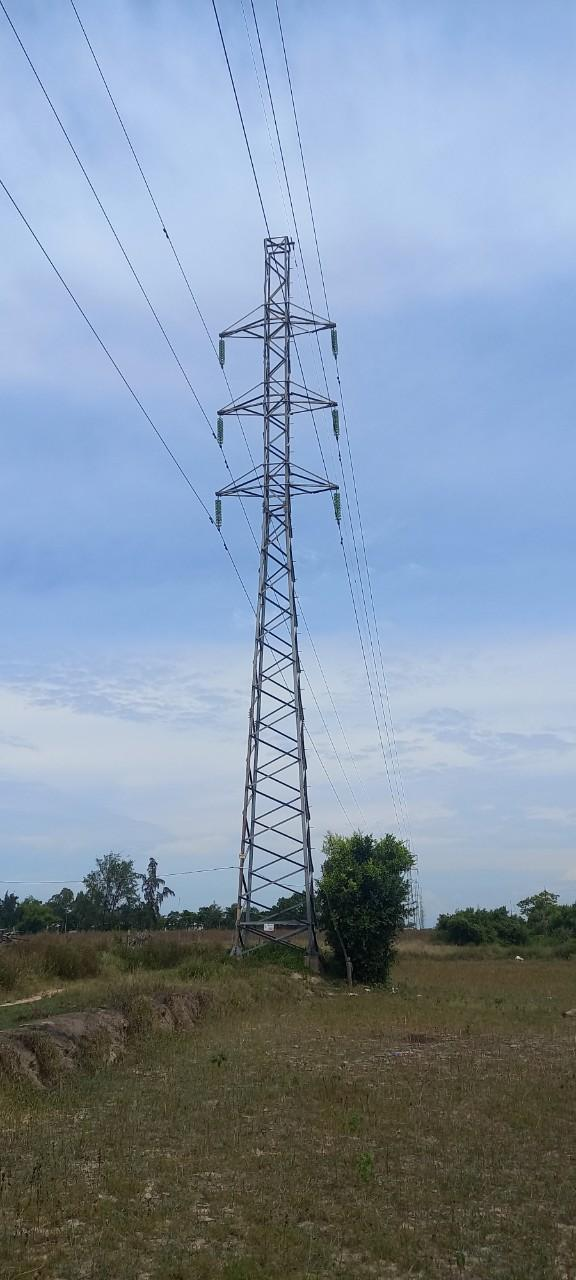power_tower: (210, 224, 354, 952)
